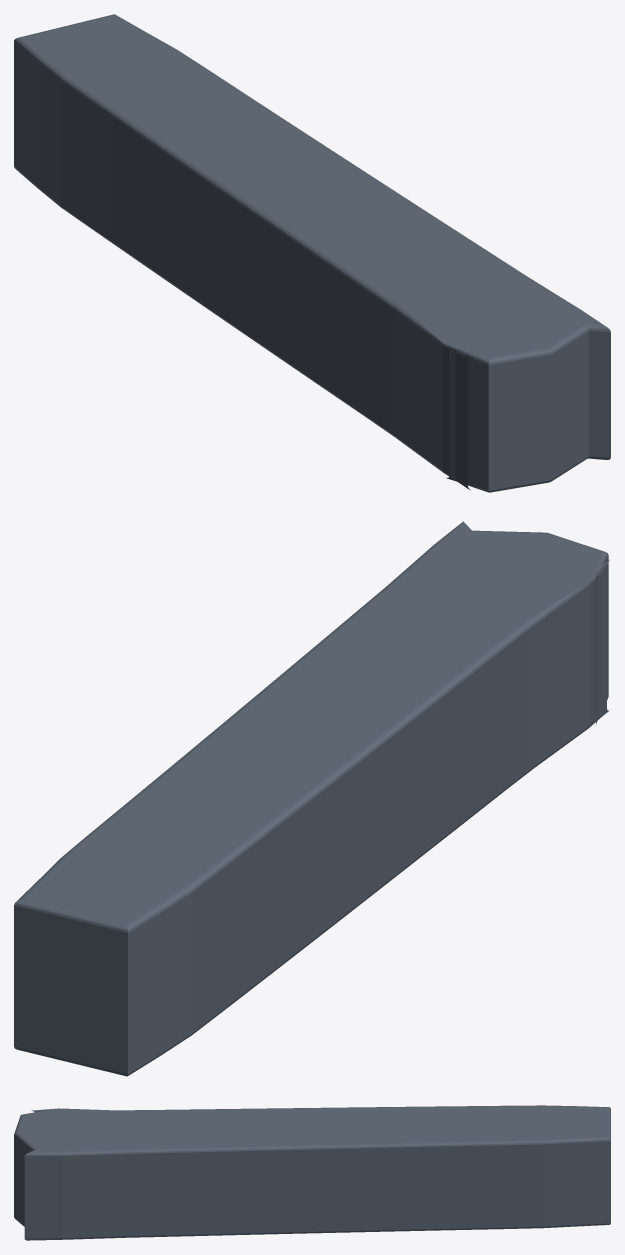
Rendered from magazine-proxy-v2-66x178x28-plastic-abs.glb.
The picture shows the model from 3 angles, top to bottom: view 1: azimuth 30°, elevation 25°; view 2: azimuth 150°, elevation 25°; view 3: azimuth 270°, elevation 25°; orthographic projection. The views are drawn at different scales.
Parts seen in each view (by area): view 1: flat_item_body; view 2: flat_item_body; view 3: flat_item_body.
Part boxes in pixels (x1,y1,x2,y2): flat_item_body: [14, 14, 610, 492]; flat_item_body: [14, 521, 610, 1076]; flat_item_body: [14, 1105, 610, 1240].
Size of the model in its own units: 36.1 by 29.8 by 184.
